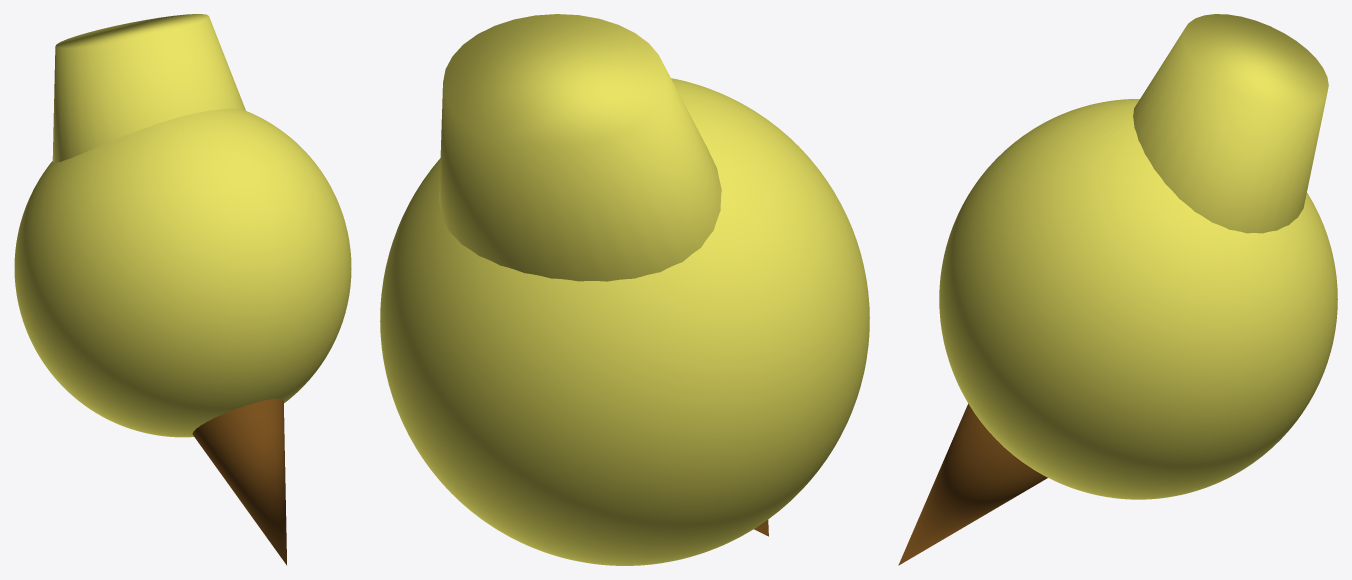
The model's file is Torse.fbx.
3 renders of one model, left to right at view 1: azimuth 30°, elevation 25°; view 2: azimuth 150°, elevation 25°; view 3: azimuth 270°, elevation 25°, orthographic. The views are drawn at different scales.
Parts seen in each view (by area): view 1: Sphere, Cylinder, Cone; view 2: Sphere, Cylinder; view 3: Sphere, Cylinder, Cone.
Part boxes in pixels (left/top/right/bottom): Sphere: left=14, top=108, right=351, bottom=437; Cylinder: left=52, top=14, right=245, bottom=162; Cone: left=192, top=398, right=286, bottom=565; Sphere: left=380, top=78, right=869, bottom=565; Cylinder: left=439, top=14, right=721, bottom=281; Sphere: left=939, top=99, right=1337, bottom=499; Cylinder: left=1133, top=14, right=1328, bottom=233; Cone: left=898, top=403, right=1047, bottom=565.
Size of the model in its own units: 223 by 325 by 246.
